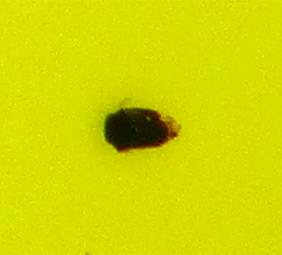Hemiptera: (100, 100, 182, 155)
